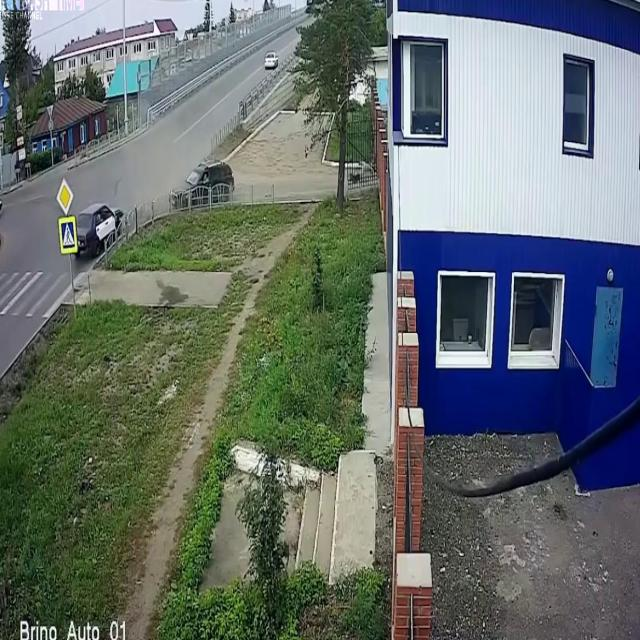accident: (66, 152, 242, 276)
